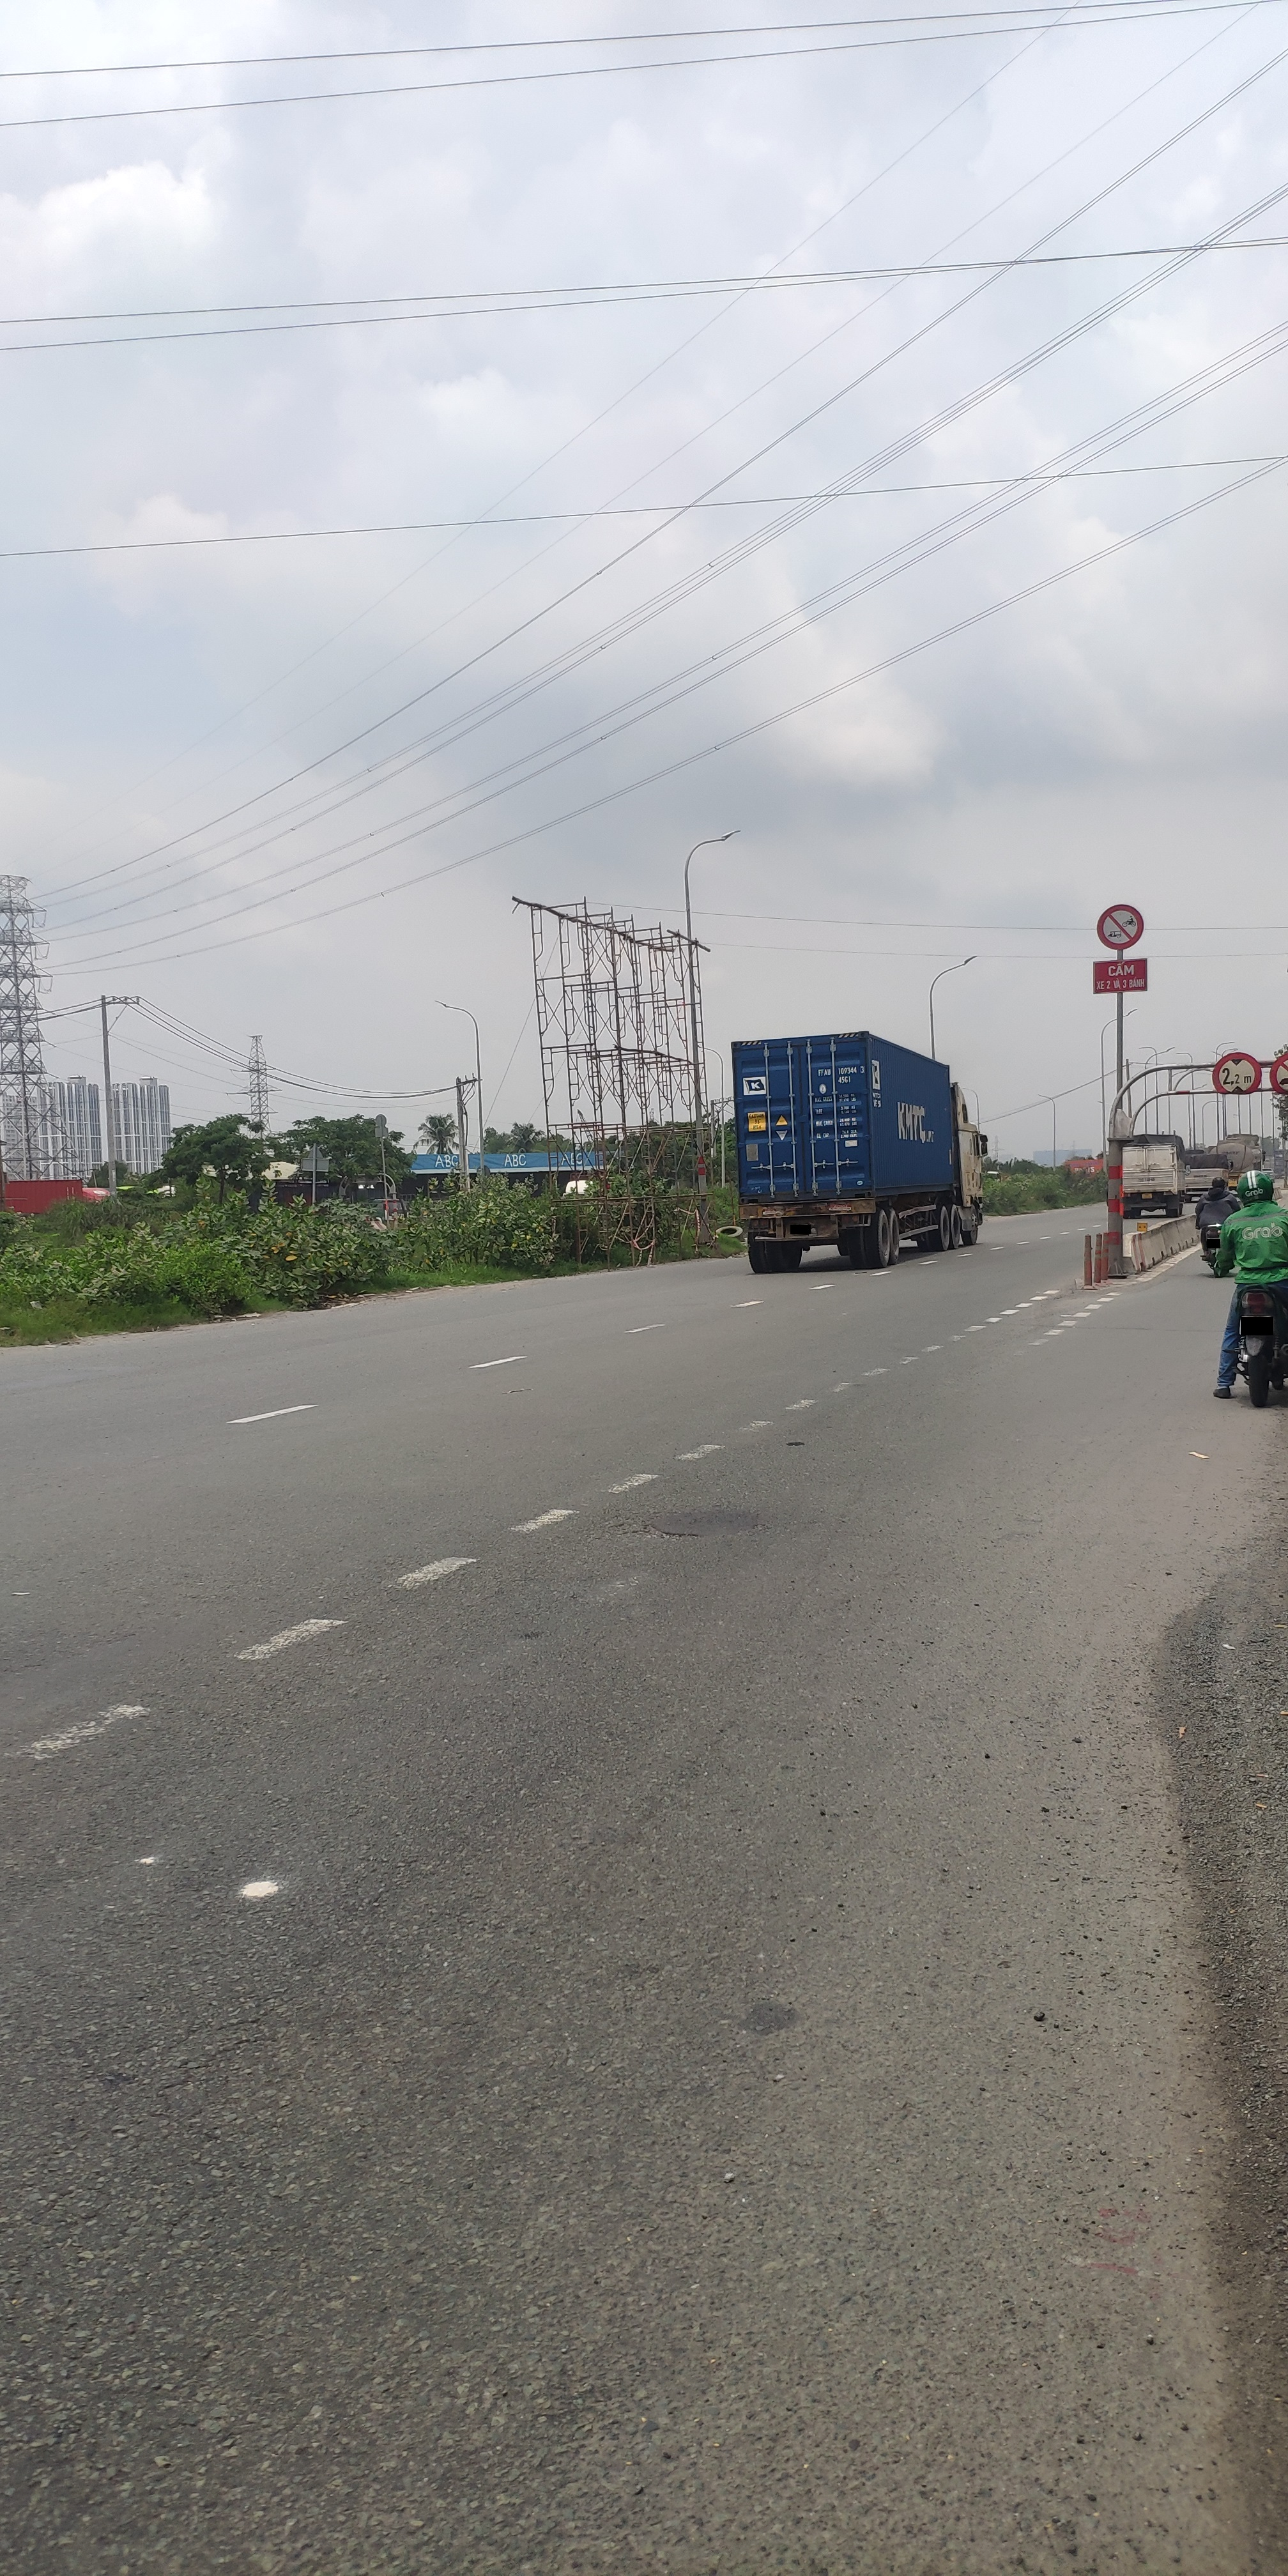hole: (636, 1513, 756, 1543), (746, 2001, 798, 2036), (789, 1439, 803, 1447)
